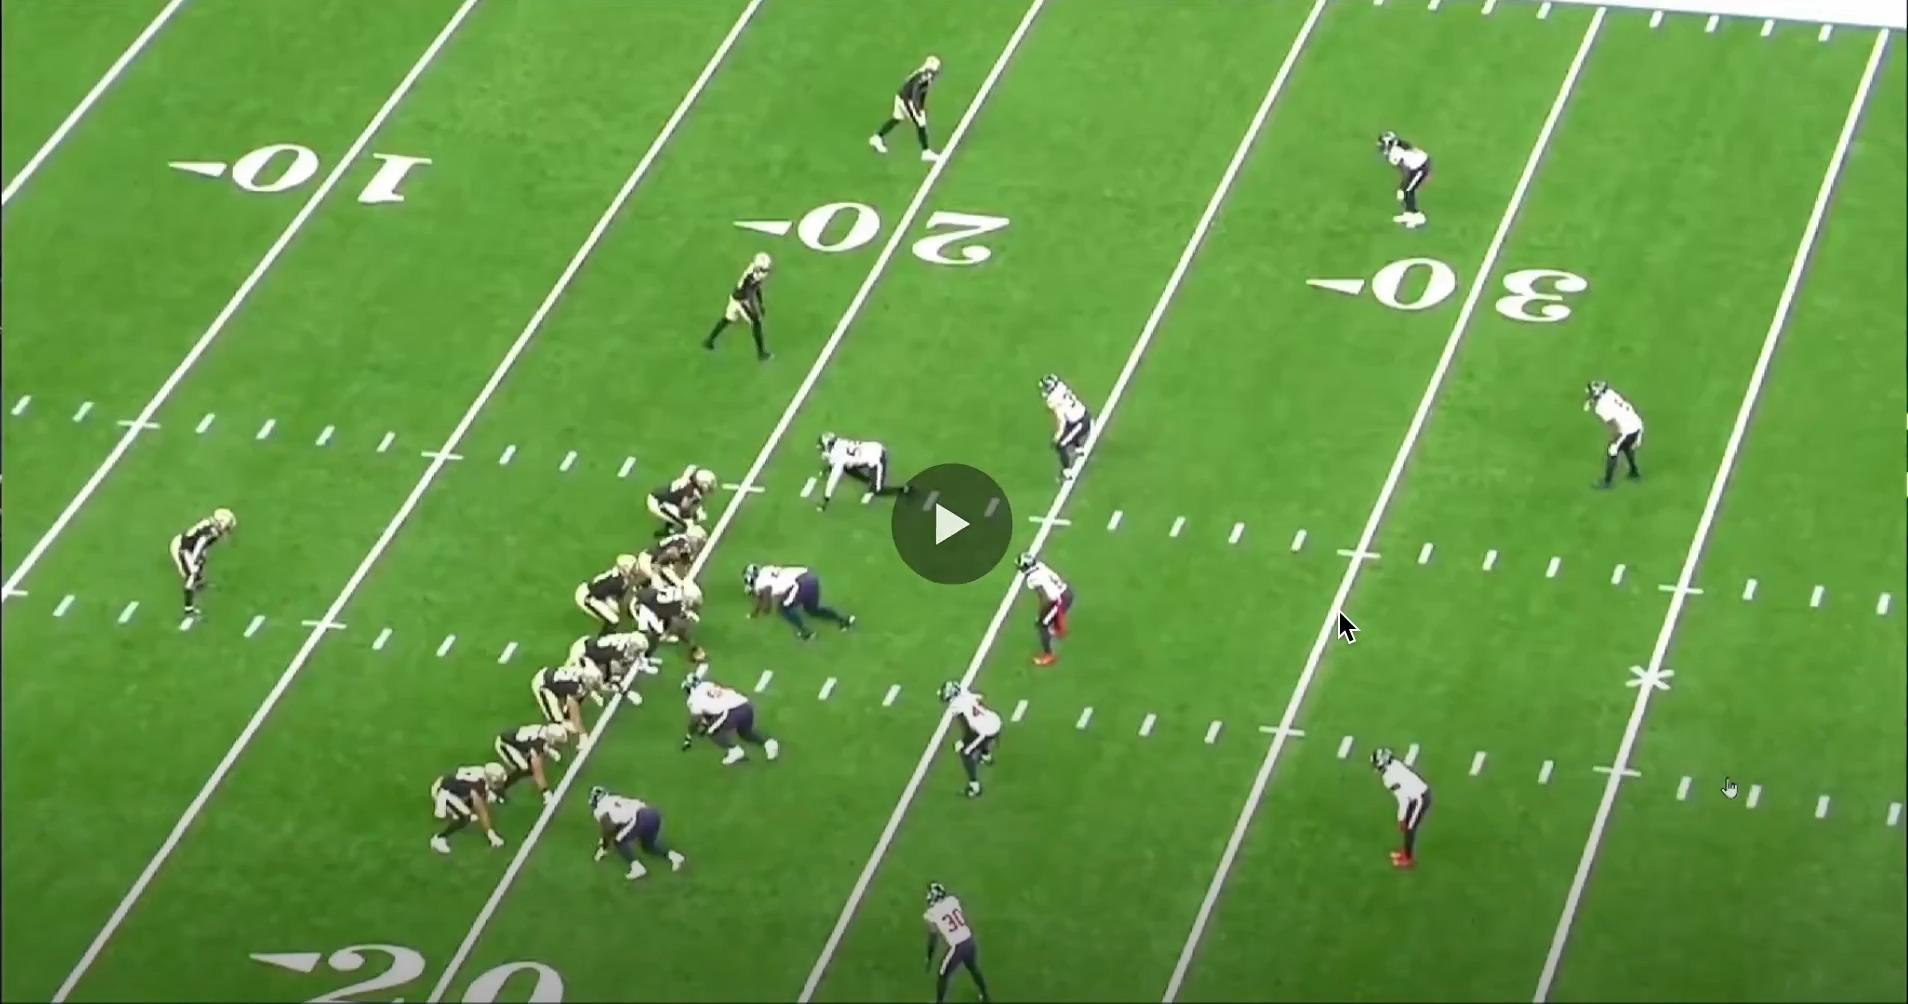player: (678, 669, 792, 769), (579, 785, 686, 890), (737, 566, 861, 649), (694, 249, 779, 370), (857, 50, 943, 169), (910, 881, 992, 1004), (1376, 747, 1445, 878), (418, 757, 505, 858), (816, 436, 921, 519), (161, 509, 234, 627), (935, 676, 1002, 801), (1014, 548, 1079, 672), (1581, 377, 1647, 497), (641, 527, 720, 621), (1043, 371, 1103, 493), (489, 721, 571, 807), (568, 631, 655, 712), (632, 581, 713, 668), (525, 667, 603, 750), (1380, 131, 1438, 235), (654, 467, 728, 547), (568, 552, 639, 630)
